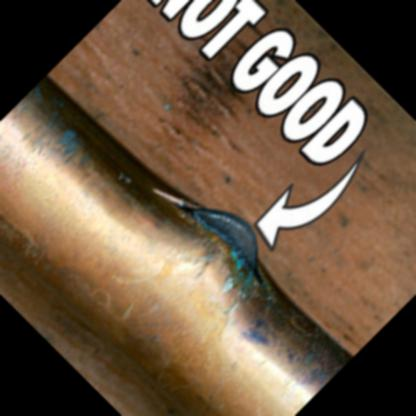burst: (190, 211, 259, 286)
